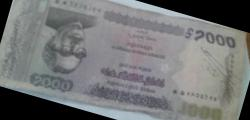1000 taka: (15, 0, 247, 108)
